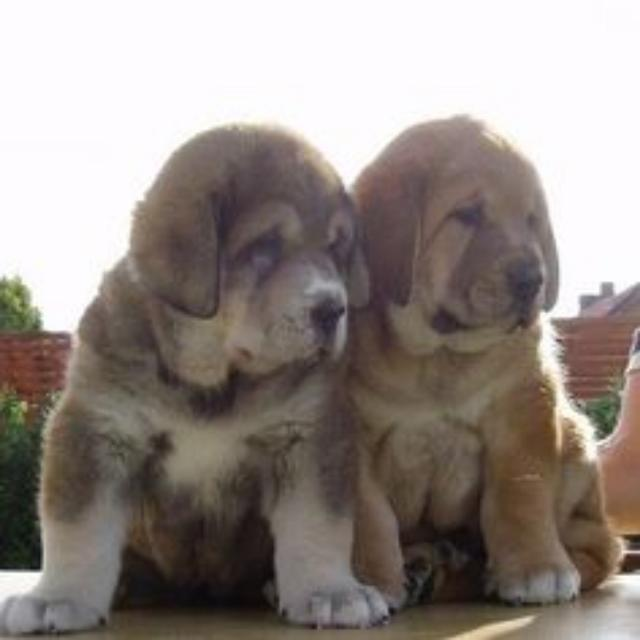mastiff: (1, 121, 395, 637), (348, 113, 627, 611)
